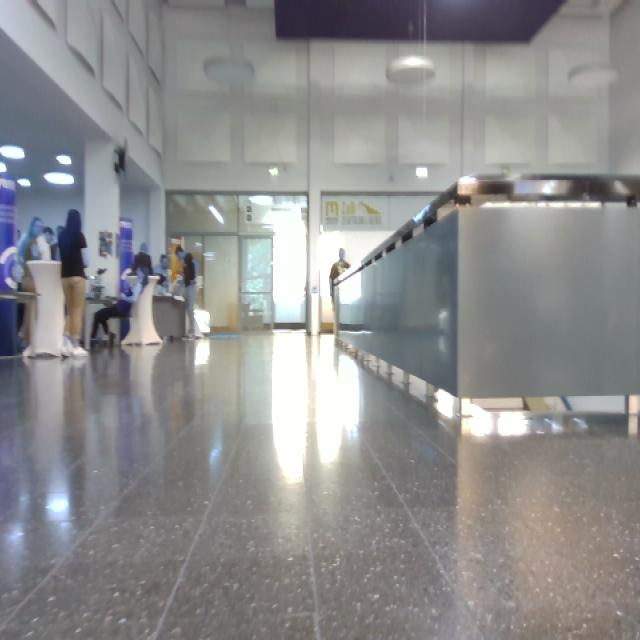door: (242, 238, 274, 330)
light bulb: (387, 58, 436, 84), (569, 66, 620, 87), (45, 173, 75, 186), (210, 206, 225, 224), (1, 148, 25, 159), (57, 156, 72, 166)
person: (60, 211, 87, 357), (184, 254, 202, 339), (330, 249, 351, 307)
staircase: (337, 178, 640, 399)
tiled floor: (1, 333, 640, 639)
